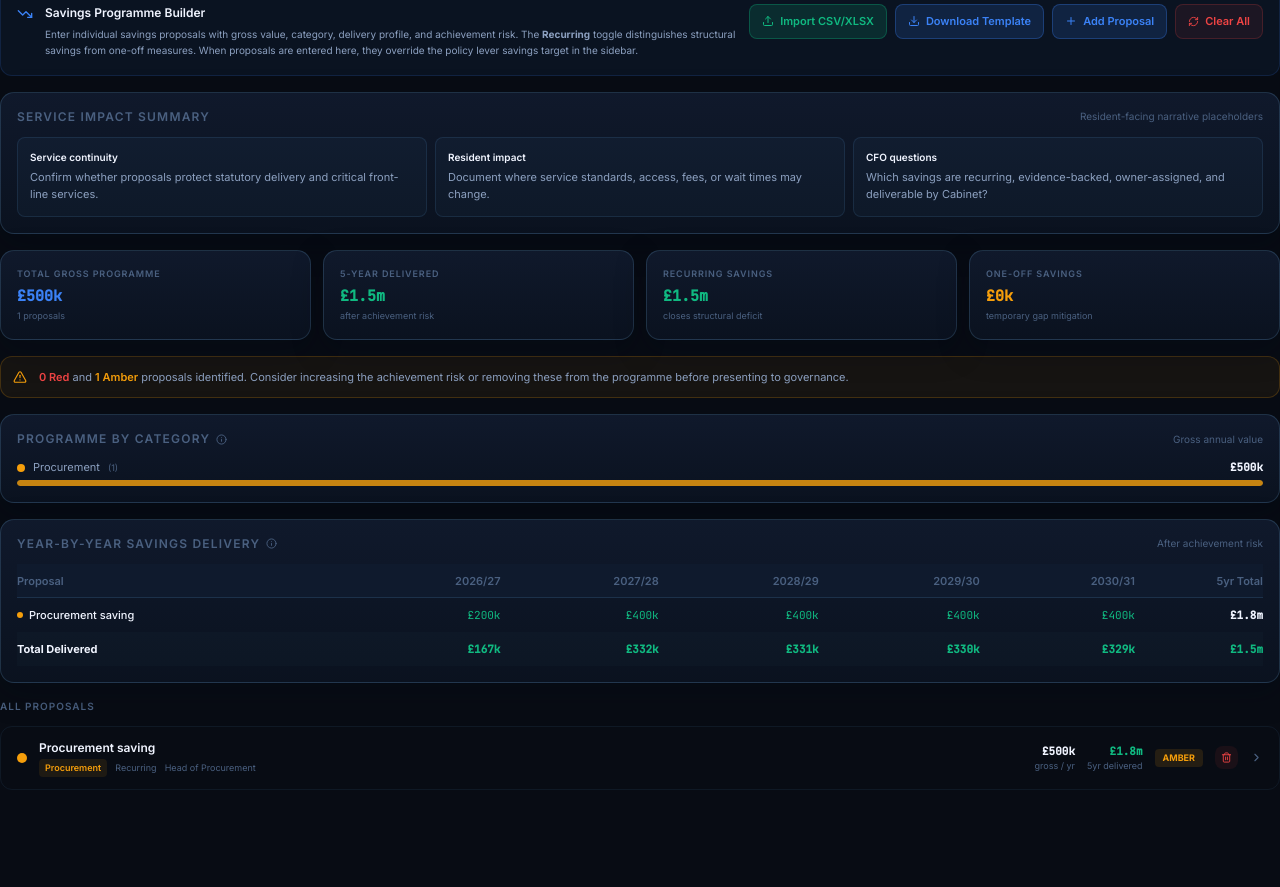
Savings and baseline wording › uses savings-specific labels for proposal details, delivery assumptions and assurance
Expected: the text "Savings Programme Builder" is shown, x1=45 y1=5 x2=205 y2=20
Expected: the heading "Year-by-Year Savings Delivery" is shown, x1=17 y1=536 x2=260 y2=552
Click the text "Procurement saving" below "All Proposals". click: click(97, 748)
box: x1=39 y1=740 x2=155 y2=755
(page scrolled)
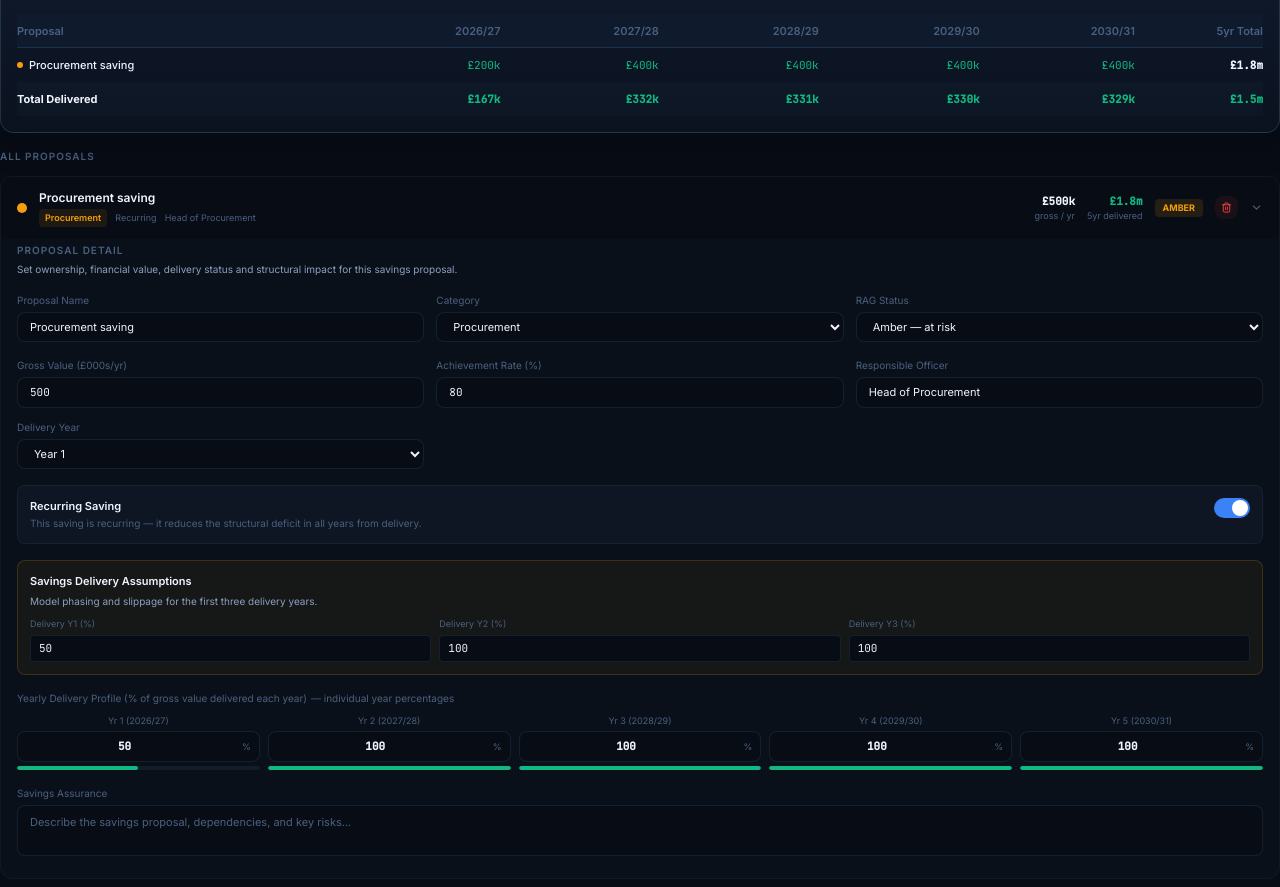
Expected: the text "Proposal Detail" is shown, x1=17 y1=244 x2=123 y2=256
Expected: the text "Savings Delivery Assumptions" is shown, x1=30 y1=574 x2=192 y2=588
Expected: the text "Savings Assurance" is shown, x1=17 y1=786 x2=107 y2=798
